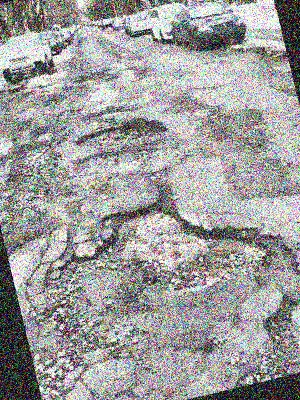pothole: (81, 171, 279, 310), (71, 113, 167, 159), (257, 286, 300, 358)
